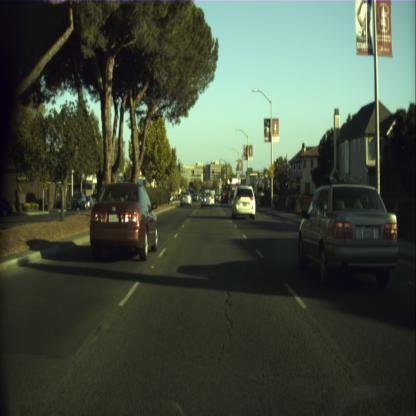Green: (212, 171, 214, 176), (192, 170, 194, 175), (230, 178, 231, 184), (226, 182, 227, 188), (204, 170, 204, 176)
